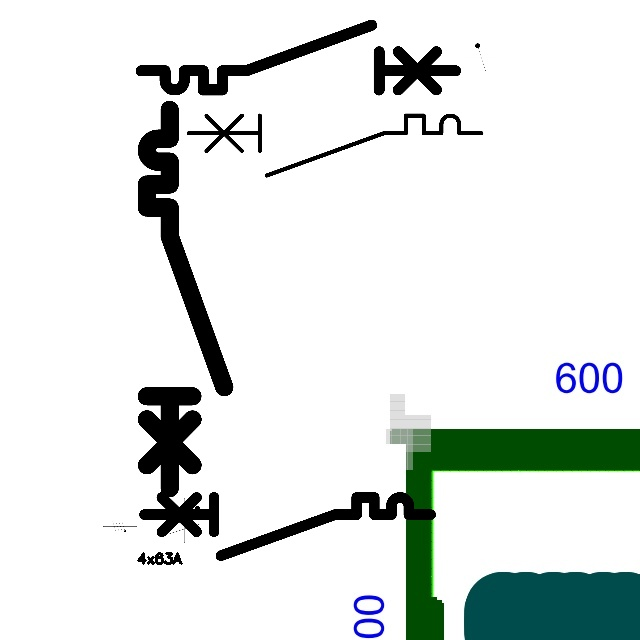interruptor_termomagnetico: (137, 100, 234, 498), (133, 17, 464, 98), (181, 108, 489, 183), (137, 490, 438, 563)
